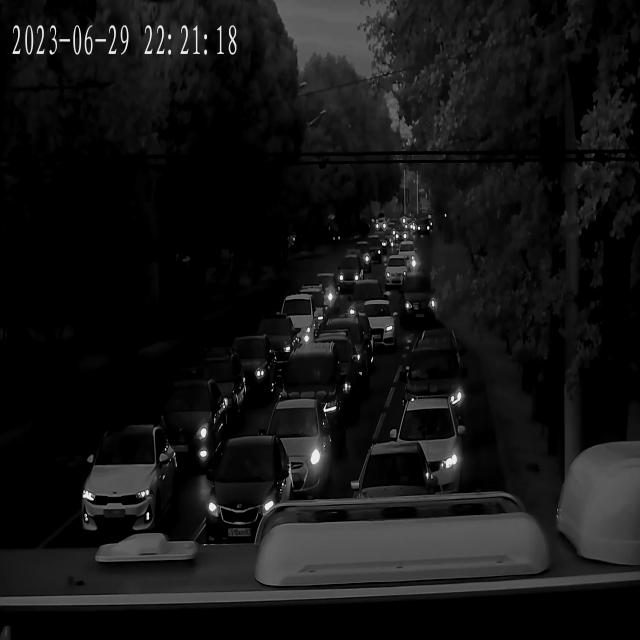Car: (77, 424, 176, 545), (195, 438, 290, 545), (379, 397, 466, 496), (258, 400, 336, 494), (265, 345, 345, 434), (153, 383, 231, 468), (397, 339, 471, 420), (358, 444, 441, 510), (176, 355, 246, 431), (294, 335, 365, 399), (313, 320, 373, 378), (223, 338, 275, 398), (391, 273, 440, 324), (350, 299, 396, 352), (271, 295, 324, 339), (252, 320, 302, 364), (347, 282, 393, 325), (288, 287, 334, 324), (300, 274, 340, 311), (329, 258, 366, 290), (344, 244, 375, 270), (383, 258, 411, 286), (356, 237, 382, 258), (393, 245, 417, 267), (365, 233, 389, 254), (411, 219, 430, 235), (392, 228, 408, 243)
